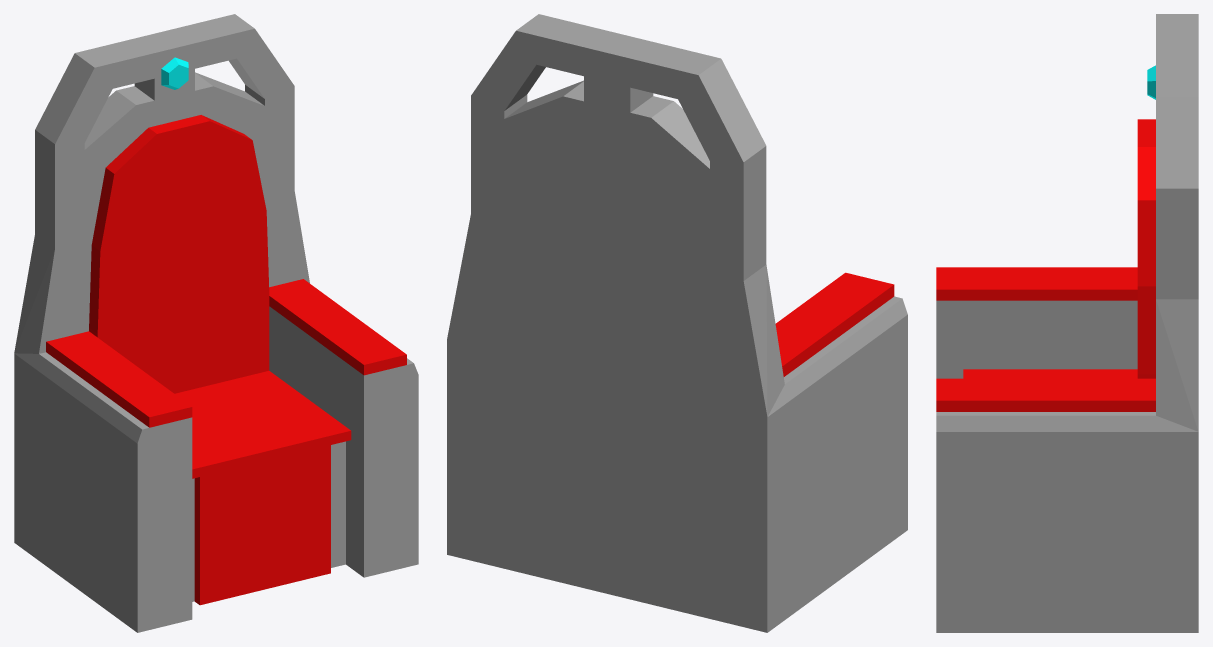
File: Prop_Furniture_Fantasy_Dungeon_Chair_Throne_Stone_Velvet_01.FBX
The picture shows the model from 3 angles, left to right: view 1: azimuth 30°, elevation 25°; view 2: azimuth 150°, elevation 25°; view 3: azimuth 270°, elevation 25°; orthographic projection. The views are drawn at different scales.
Parts seen in each view (by area): view 1: Prop_Furniture_Fantasy_Dungeon_Chair_Throne_Stone_Velvet_01; view 2: Prop_Furniture_Fantasy_Dungeon_Chair_Throne_Stone_Velvet_01; view 3: Prop_Furniture_Fantasy_Dungeon_Chair_Throne_Stone_Velvet_01.
Part boxes in pixels (x1,y1,x2,y2): Prop_Furniture_Fantasy_Dungeon_Chair_Throne_Stone_Velvet_01: [14, 14, 418, 632]; Prop_Furniture_Fantasy_Dungeon_Chair_Throne_Stone_Velvet_01: [447, 14, 907, 632]; Prop_Furniture_Fantasy_Dungeon_Chair_Throne_Stone_Velvet_01: [936, 14, 1198, 632].
Size of the model in its own units: 811 by 1308 by 616.
